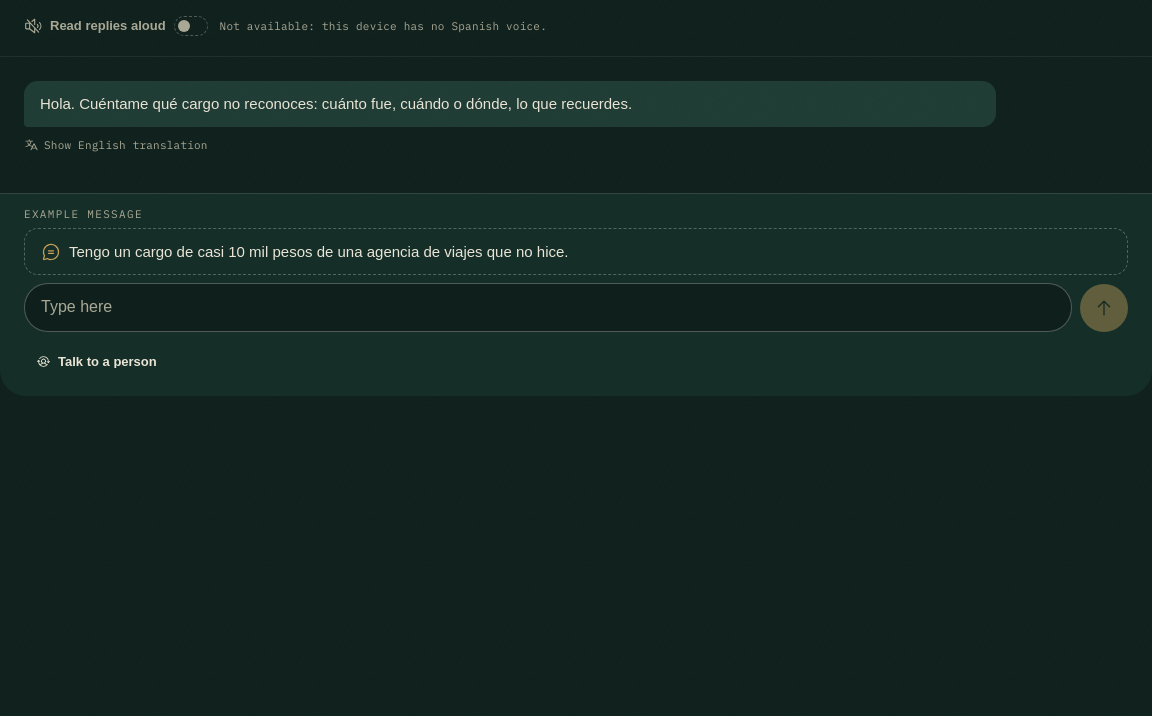
Test: the composer after the conversation ends › offers a new review instead of a person or a message box once the case is settled
Click the button "casi 10 mil pesos": [319, 252] box [24,228,1128,275]
(page scrolled)
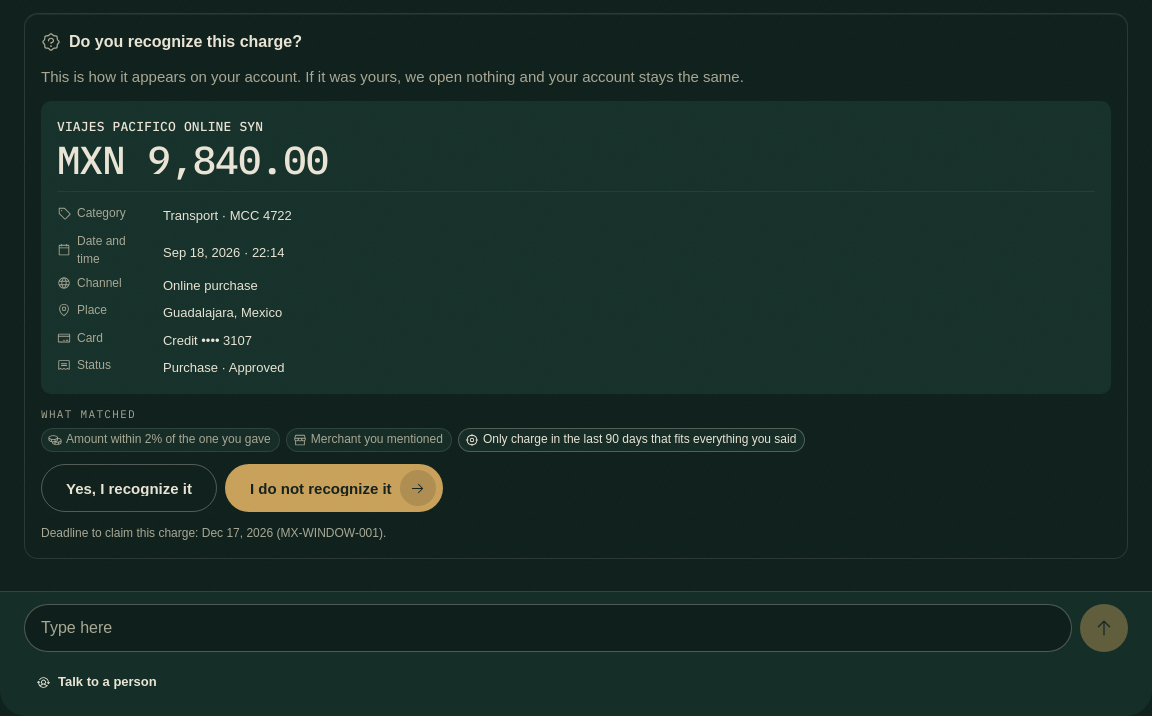
Click the button "Yes, I recognize it": [129, 488] box [41,464,217,512]
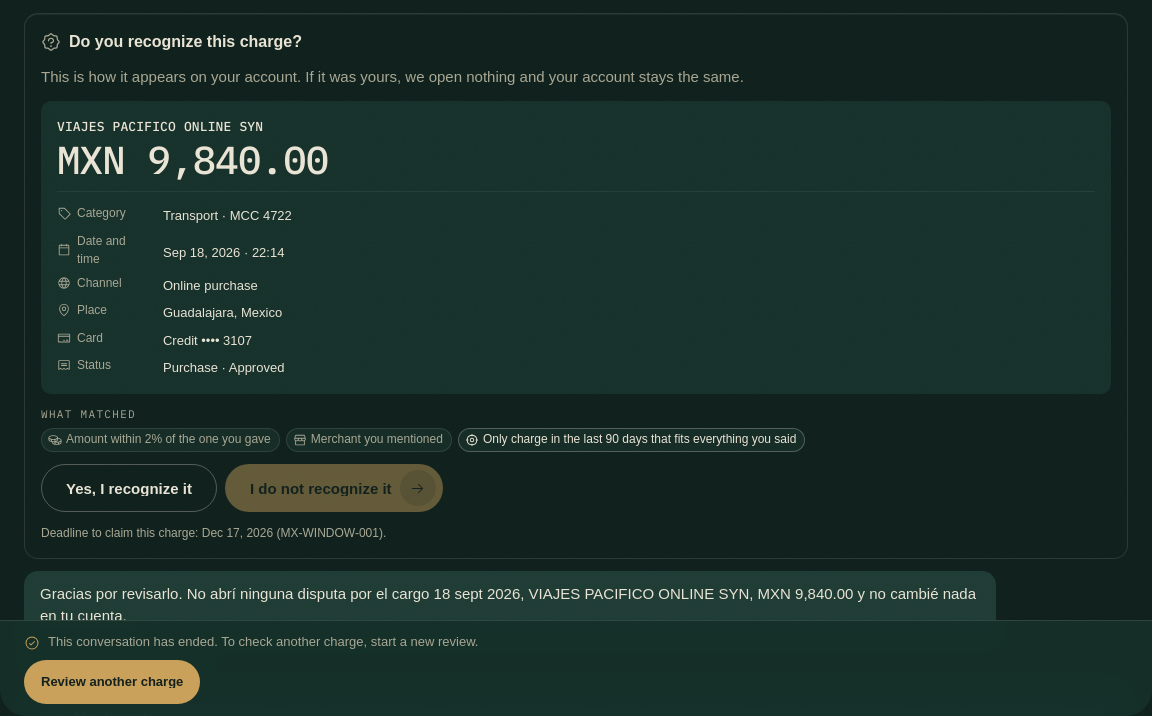
Expected: the field labelled "Your message" is not shown
Expected: the button "Talk to a person" is gone
Expected: the text "This conversation has ended. To check another charge, start a new review." is shown, [48,633,478,652]
Click the button "Review another charge": [112, 682] box [24,660,200,704]
(page scrolled)
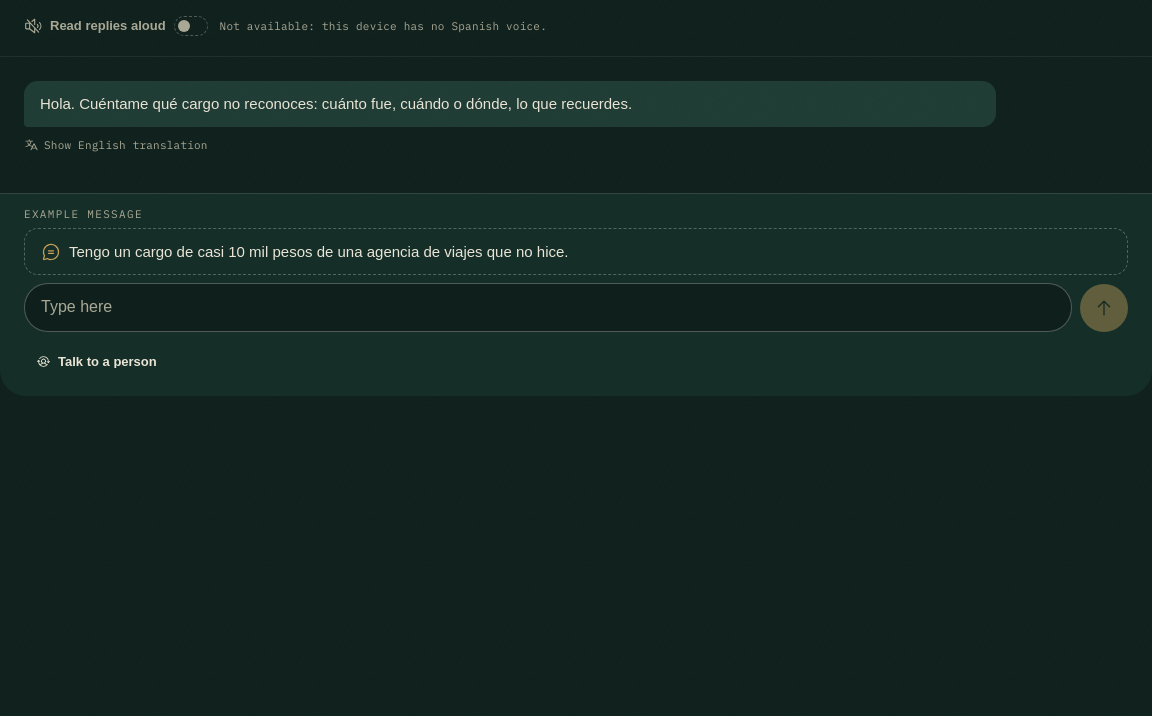
Expected: the button "Talk to a person" is shown, [24,340,170,384]
